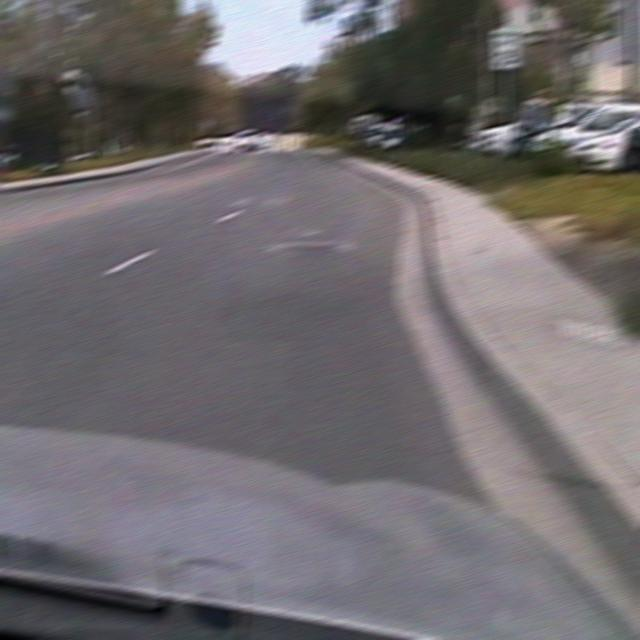speedLimit35: (492, 26, 520, 67)
